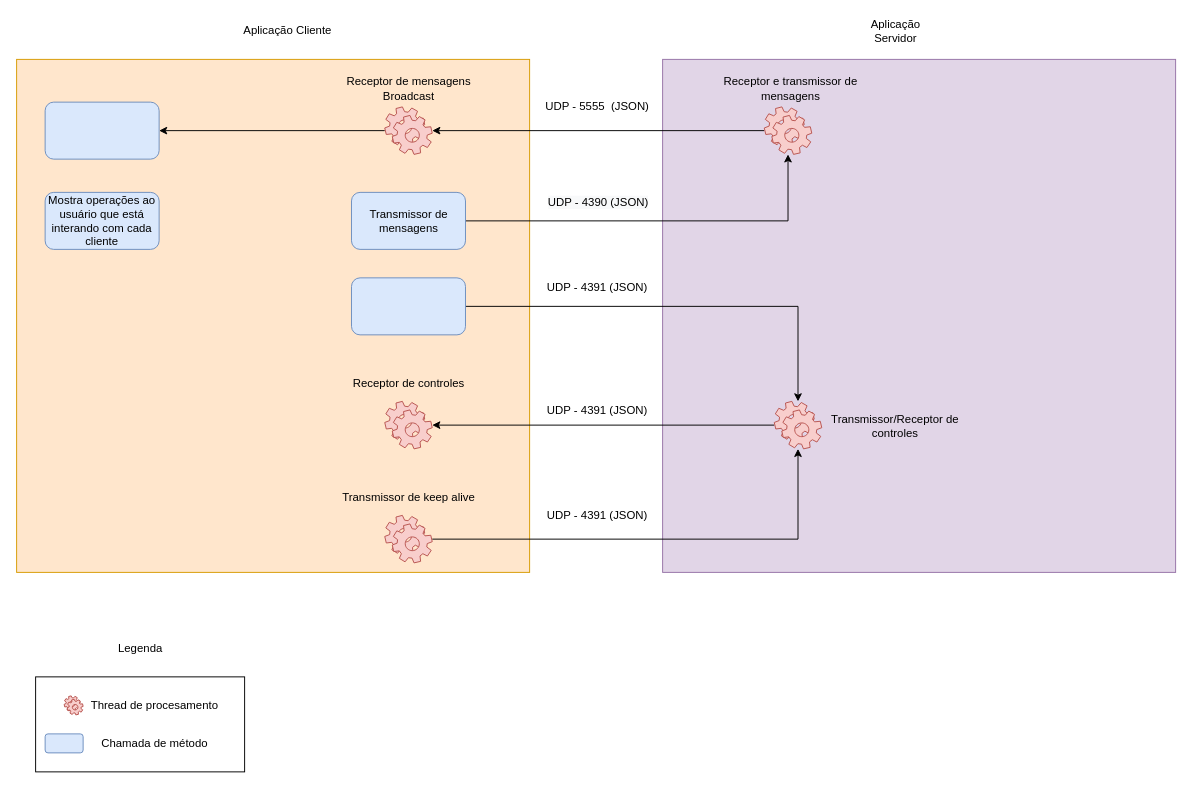
Image size: 1192x789. Some labels were removed from this diagram. The centre of each missing label's shape, as x and y in pixels:
"Mostra no chat as mensagens recebidas em broadcast" goes at point (101, 130).
"Transmissor de controles" goes at point (408, 306).
